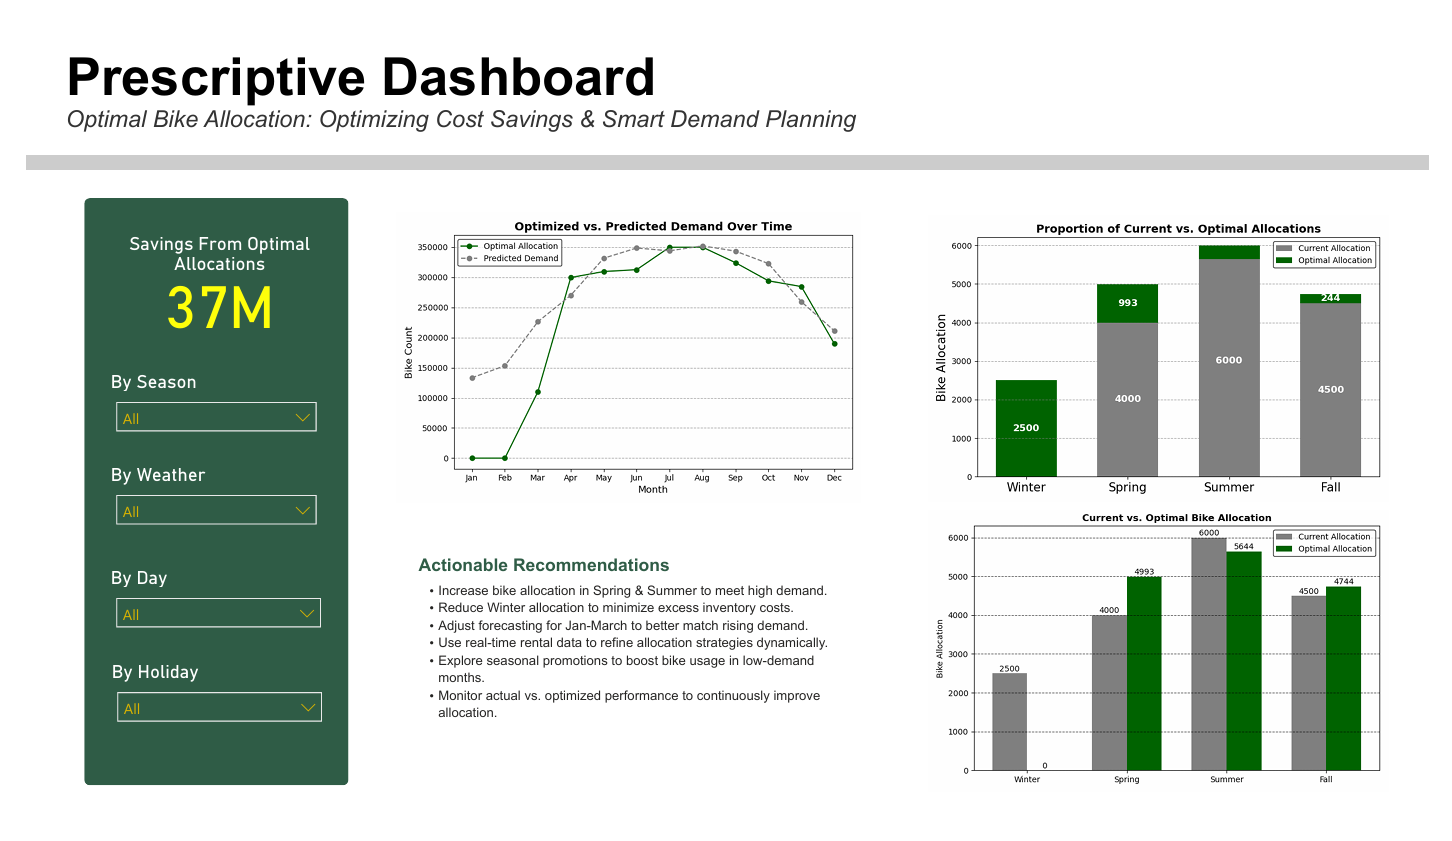

The dashboard page shown, as its layout file describes it:
{"tool":"powerbi","page":{"name":"Prescriptive Dashboard","canvas":[1280,720],"ordinal":1},"visuals":[{"type":"shape","box":[0,117.5,1280.4,13.4],"z":0},{"type":"textbox","box":[30.7,13.9,1206.4,68.9],"z":1000},{"type":"shape","box":[52.6,157,241.5,536.5],"z":2000},{"type":"textbox","box":[30.9,68,838.1,42.3],"z":3000},{"type":"card","title":"Savings From Optimal Allocations","fields":{"Values":["Sum(bike_dataset_clean.Total_Cost_Savings)"]},"box":[78.5,188,196.7,106.1],"z":4000},{"type":"slicer","title":"By Season","fields":{"Values":["bike_dataset_clean.Season_Label"]},"box":[72.5,314,202.7,85.4],"z":5000},{"type":"slicer","title":"By Weather","fields":{"Values":["bike_dataset_clean.Weather_Label"]},"box":[72.5,399.4,202.7,83.7],"z":6000},{"type":"slicer","title":"By Day","fields":{"Values":["bike_dataset_clean.weekday_label"]},"box":[72.5,493.4,207,85.4],"z":7000},{"type":"slicer","title":"By Holiday","fields":{"Values":["bike_dataset_clean.Holiday_Label"]},"box":[73.3,578.8,207,84.5],"z":8000},{"type":"pythonVisual","fields":{"Values":["bike_dataset_clean.Season_Label","bike_dataset_clean.Current_Allocation","bike_dataset_clean.Optimal_Allocation"]},"box":[817.5,425.8,430.9,285.6],"z":9000},{"type":"pythonVisual","fields":{"Values":["bike_dataset_clean.mnth","bike_dataset_clean.predicted_cnt","bike_dataset_clean.Optimal_Allocation"]},"box":[325.8,164.9,447.4,275.3],"z":10000},{"type":"pythonVisual","fields":{"Values":["bike_dataset_clean.Season_Label","bike_dataset_clean.Current_Allocation","bike_dataset_clean.Optimal_Allocation"]},"box":[817.5,164.9,430.9,277.3],"z":11000},{"type":"textbox","title":"Actionable Recommendations","box":[352.7,483.3,410.6,162.1],"z":13000}]}

Visuals, with their boxes in screenshot pixels (x1, y1, x2, y2), scaled from the page's 1280x720 canvas onto the 1452x841 screenshot:
shape: x1=0 y1=137 x2=1451 y2=153
textbox: x1=35 y1=16 x2=1403 y2=97
shape: x1=60 y1=183 x2=334 y2=810
textbox: x1=35 y1=79 x2=986 y2=129
"Savings From Optimal Allocations" card: x1=89 y1=220 x2=312 y2=344
"By Season" slicer: x1=82 y1=367 x2=312 y2=467
"By Weather" slicer: x1=82 y1=467 x2=312 y2=564
"By Day" slicer: x1=82 y1=576 x2=317 y2=676
"By Holiday" slicer: x1=83 y1=676 x2=318 y2=775
pythonVisual - bike_dataset_clean.Season_Label x bike_dataset_clean.Current_Allocation: x1=927 y1=497 x2=1416 y2=831
pythonVisual - bike_dataset_clean.mnth x bike_dataset_clean.predicted_cnt: x1=370 y1=193 x2=877 y2=514
pythonVisual - bike_dataset_clean.Season_Label x bike_dataset_clean.Current_Allocation: x1=927 y1=193 x2=1416 y2=517
"Actionable Recommendations" textbox: x1=400 y1=565 x2=866 y2=754
